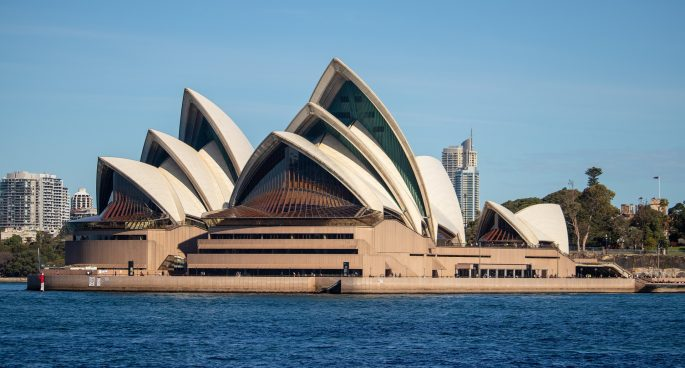opera house: (35, 32, 664, 281)
